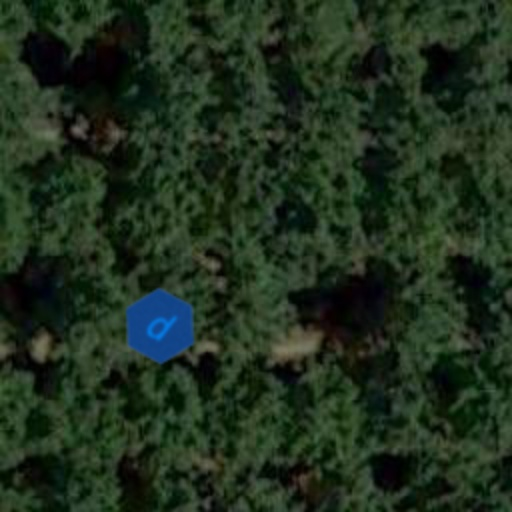hexagon: (108, 274, 212, 378)
